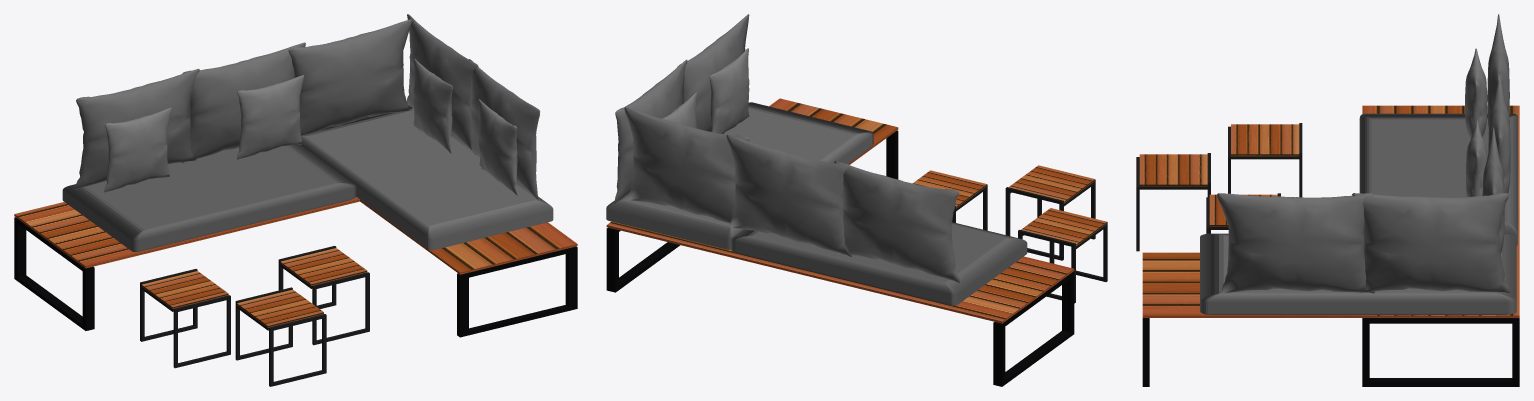
The picture shows the model from 3 angles, left to right: view 1: azimuth 30°, elevation 25°; view 2: azimuth 150°, elevation 25°; view 3: azimuth 270°, elevation 25°; orthographic projection. The views are drawn at different scales.
Parts seen in each view (by area): view 1: Asset3DLoader.sceneRoot; view 2: Asset3DLoader.sceneRoot; view 3: Asset3DLoader.sceneRoot.
Part boxes in pixels (x1,y1,x2,y2): Asset3DLoader.sceneRoot: (14,14,577,386); Asset3DLoader.sceneRoot: (606,14,1107,386); Asset3DLoader.sceneRoot: (1136,14,1519,386).
Bounding box in the file's own units: 318 × 134 × 242.
Materials: 8 (2 with a texture image).
